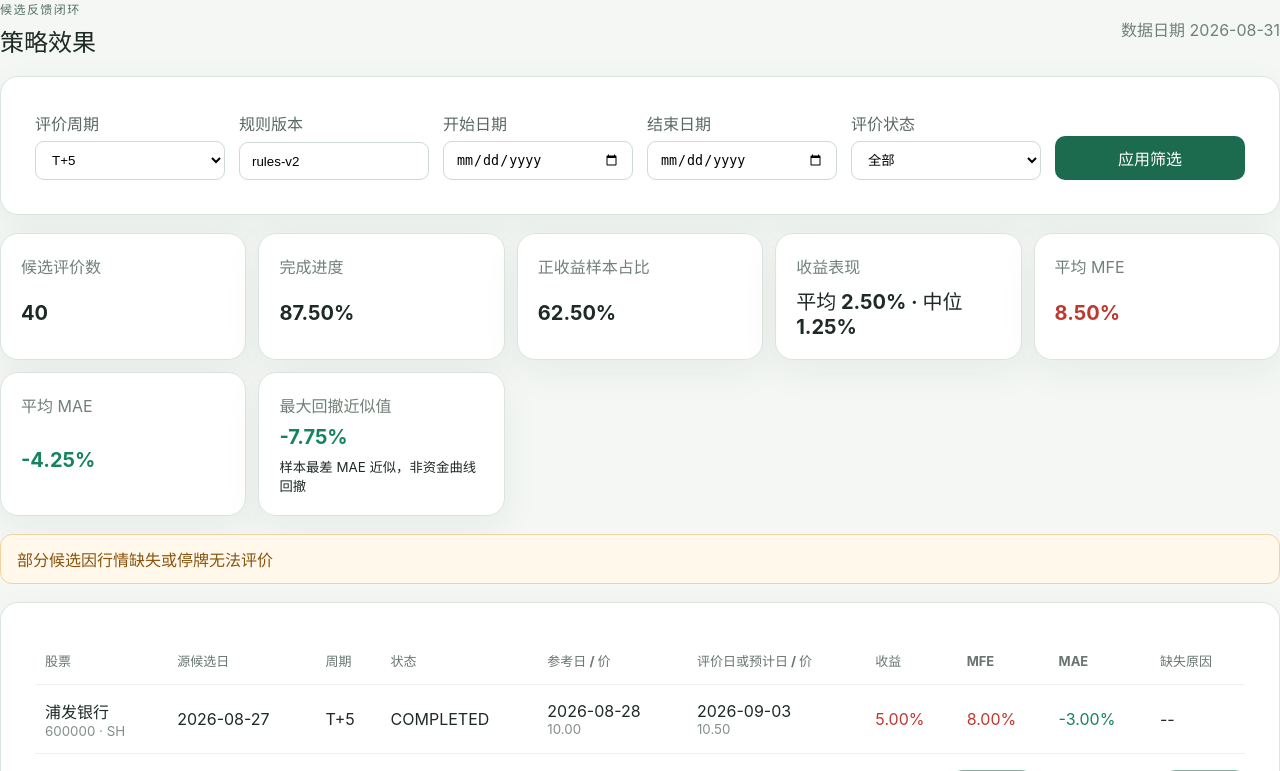
Scenario: StrategyEffectPage › 清空规则版本后不保留旧数据，也不发送空规则请求
Expected: the table named "策略效果明细" is shown, [35,637,1245,754]
Clear the field labelled "规则版本" at [334, 161], box [239,142,429,180]
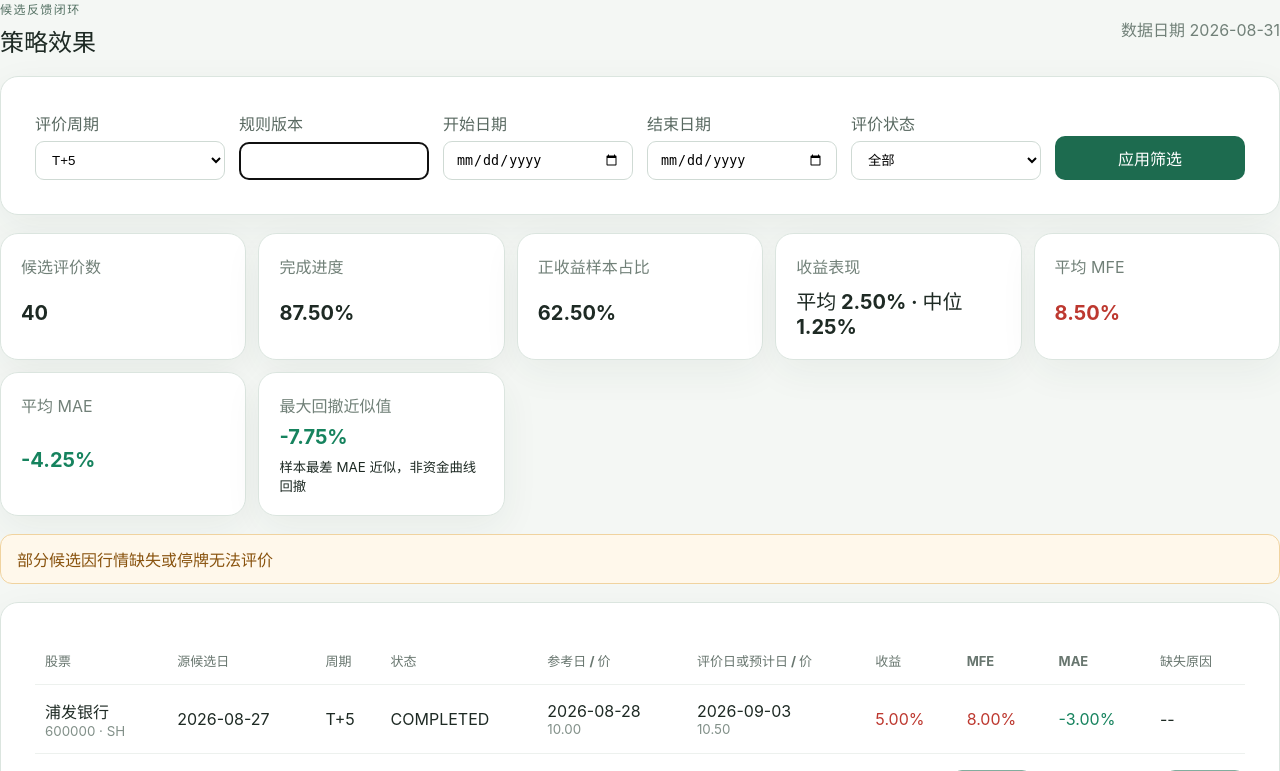
Click the button "应用筛选" at [1150, 158], box [1055,136,1245,180]
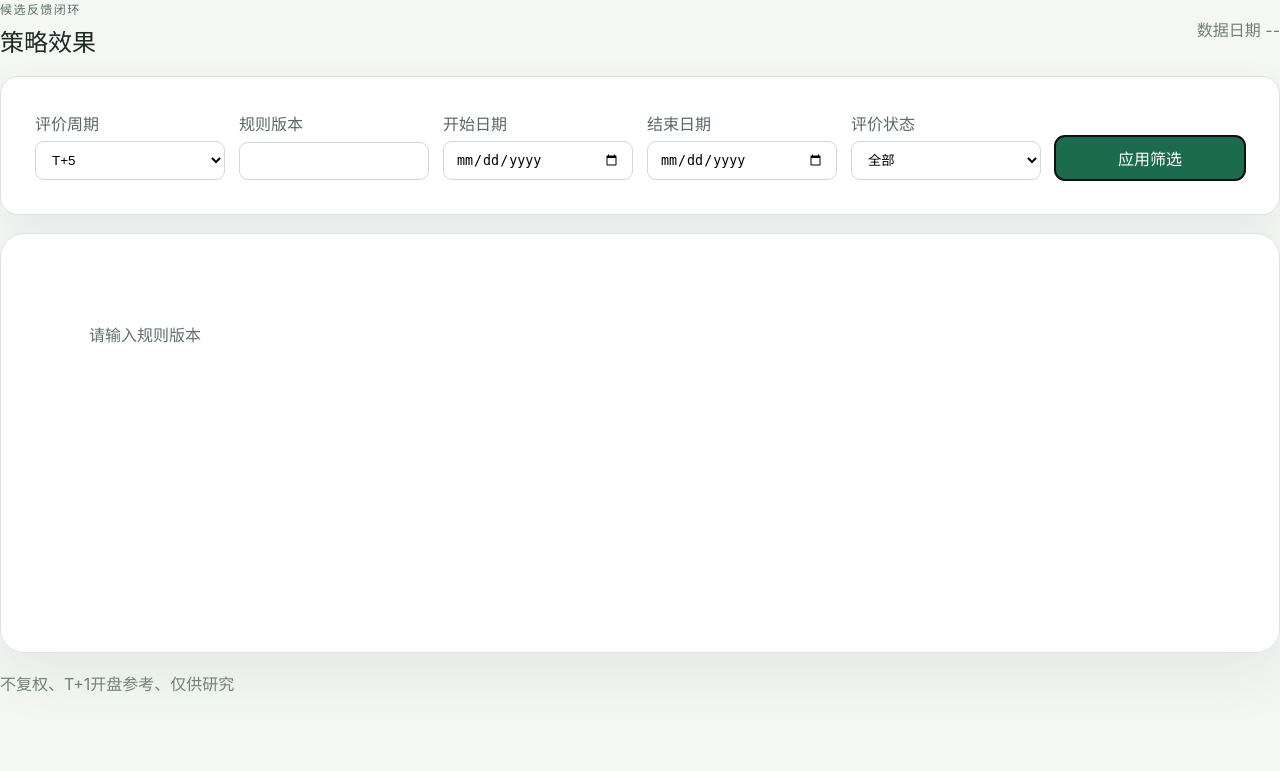
Expected: the text "请输入规则版本" is shown, [89,325,201,345]
Expected: the table "策略效果明细" is gone
